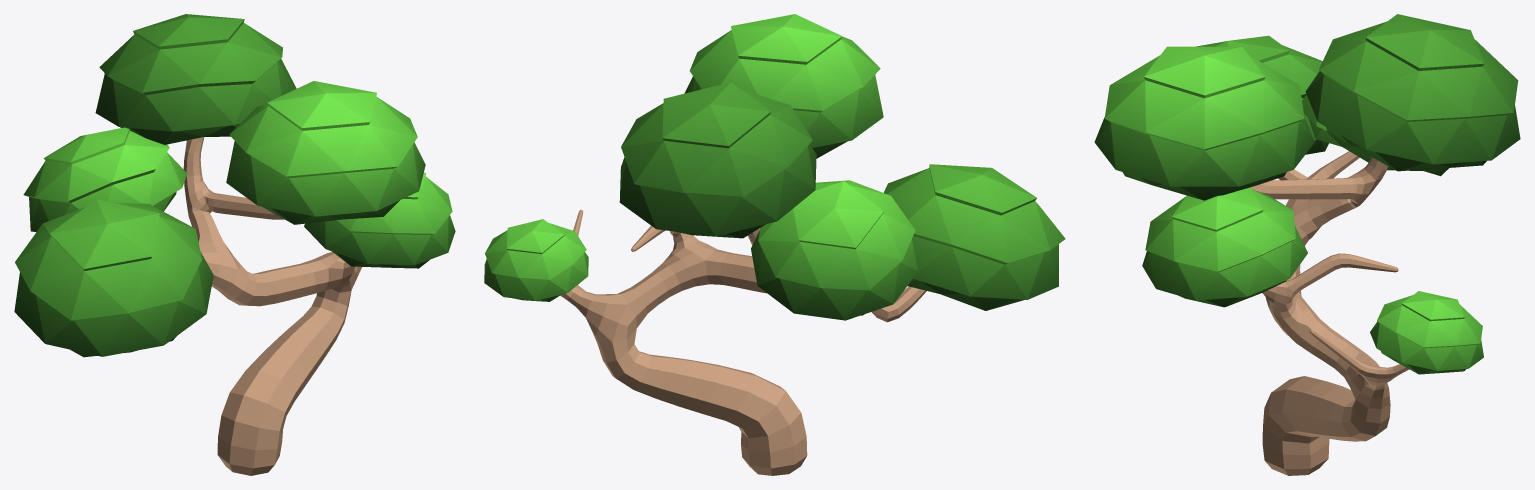
Rendered from New_Tree1.fbx.
The picture shows the model from 3 angles, left to right: view 1: azimuth 30°, elevation 25°; view 2: azimuth 150°, elevation 25°; view 3: azimuth 270°, elevation 25°; orthographic projection. The views are drawn at different scales.
Visible parts, largest first — view 1: Leaves.003, Leaves, Cube, Leaves.001, Leaves.004, Leaves.002; view 2: Leaves.001, Cube, Leaves.003, Leaves.004, Leaves, Leaves.005; view 3: Leaves, Leaves.001, Cube, Leaves.002, Leaves.005, Leaves.003, Leaves.004.
Boxes of the visible parts, box(x1,y1,x2,y2) form: Leaves.003: box(14, 199, 213, 357); Leaves: box(226, 81, 425, 224); Cube: box(183, 137, 361, 475); Leaves.001: box(95, 14, 296, 144); Leaves.004: box(23, 127, 187, 232); Leaves.002: box(304, 172, 455, 268); Leaves.001: box(619, 82, 816, 238); Cube: box(560, 209, 926, 475); Leaves.003: box(883, 164, 1065, 310); Leaves.004: box(751, 180, 918, 320); Leaves: box(684, 14, 883, 158); Leaves.005: box(484, 219, 588, 301); Leaves: box(1094, 46, 1314, 200); Leaves.001: box(1305, 14, 1520, 171); Cube: box(1250, 151, 1409, 475); Leaves.002: box(1142, 187, 1307, 307); Leaves.005: box(1370, 291, 1483, 374); Leaves.003: box(1196, 35, 1328, 154); Leaves.004: box(1302, 71, 1448, 176).
Bounding box in the file's own units: 459 × 384 × 336.
Materials: 2 (1 with a texture image).
